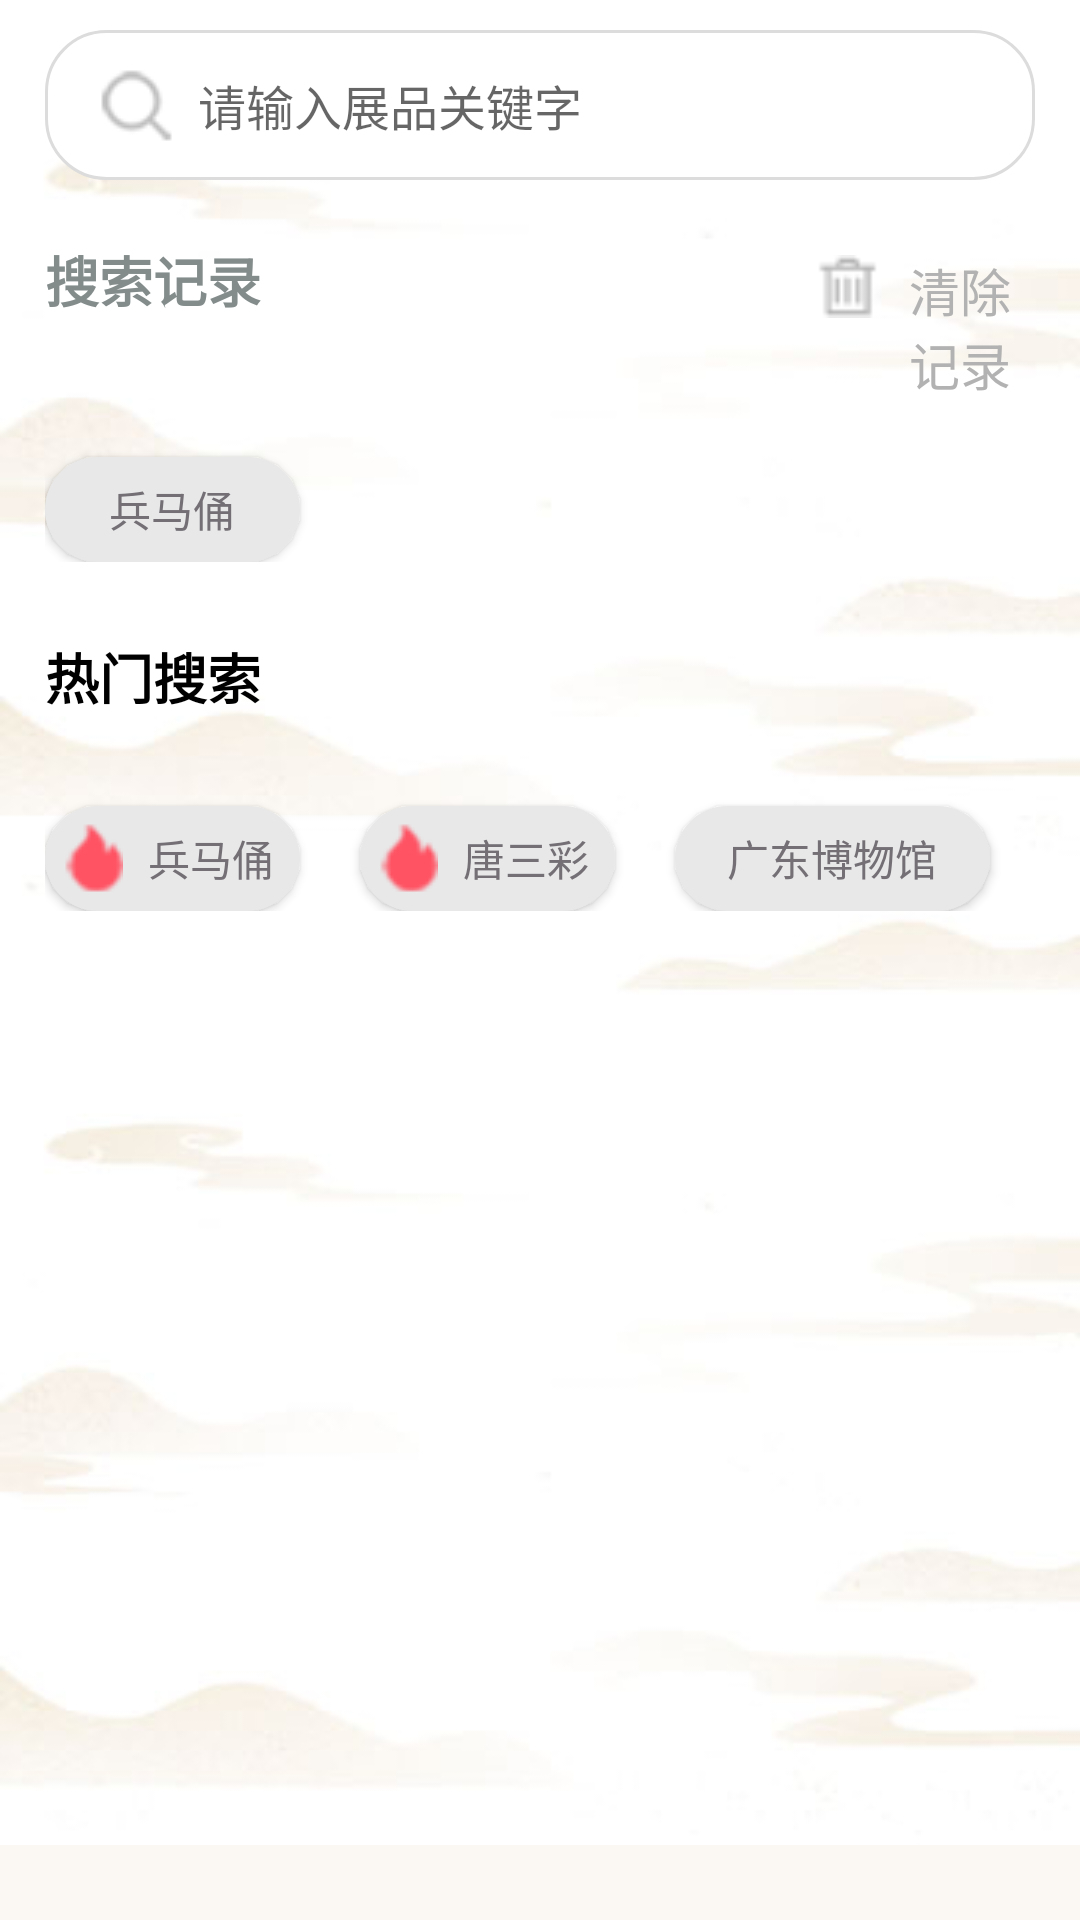

Named icons in this screenshot (1080 × 1920) and their centers, [x,y]:
delete: [847,287]
